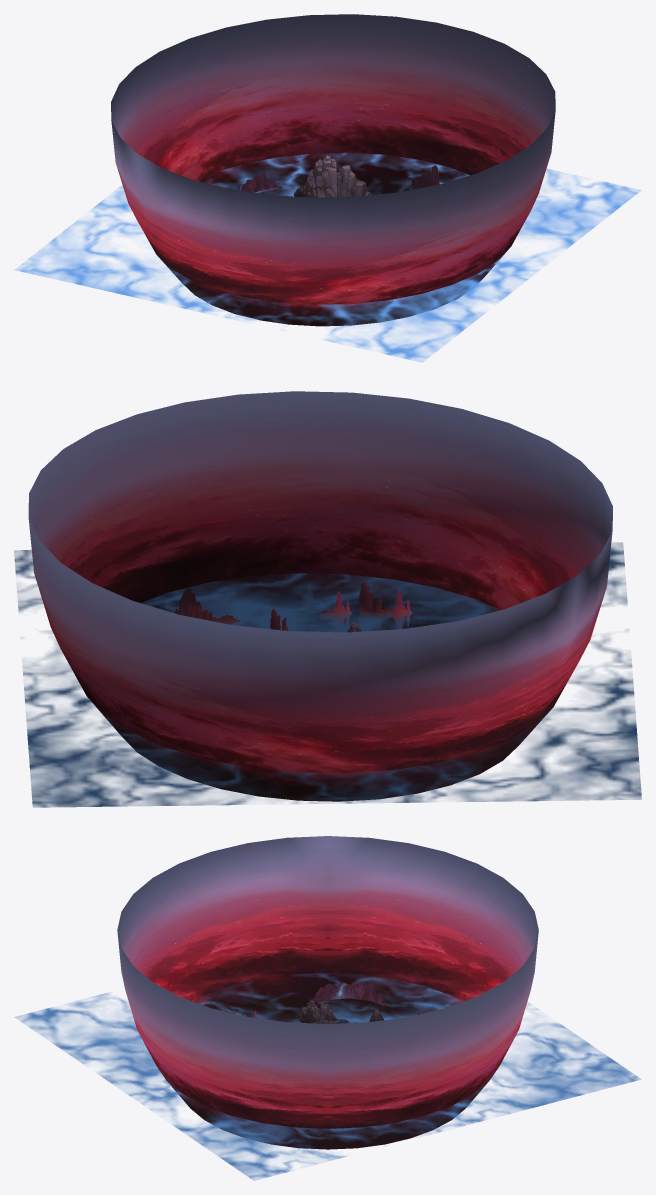
Rendered from island-sky.glb.
3 renders of one model, top to bottom at view 1: azimuth 30°, elevation 25°; view 2: azimuth 150°, elevation 25°; view 3: azimuth 270°, elevation 25°, orthographic. The views are drawn at different scales.
Parts seen in each view (by area): view 1: Sky, Water, Rocks, Fondos; view 2: Sky, Water, Fondos; view 3: Sky, Water, Fondos, Rocks.
Boxes of the visible parts, x1,y1,x2,y2 form: Sky: [111, 14, 555, 326]; Water: [15, 153, 641, 362]; Rocks: [293, 155, 370, 197]; Fondos: [235, 165, 439, 193]; Sky: [28, 391, 612, 801]; Water: [14, 542, 641, 807]; Fondos: [174, 582, 431, 630]; Sky: [117, 836, 538, 1149]; Water: [14, 973, 641, 1180]; Fondos: [243, 982, 423, 1018]; Rocks: [295, 1000, 383, 1023].
Bounding box in the file's own units: 354 × 108 × 354.
16 materials, 16 textured.
